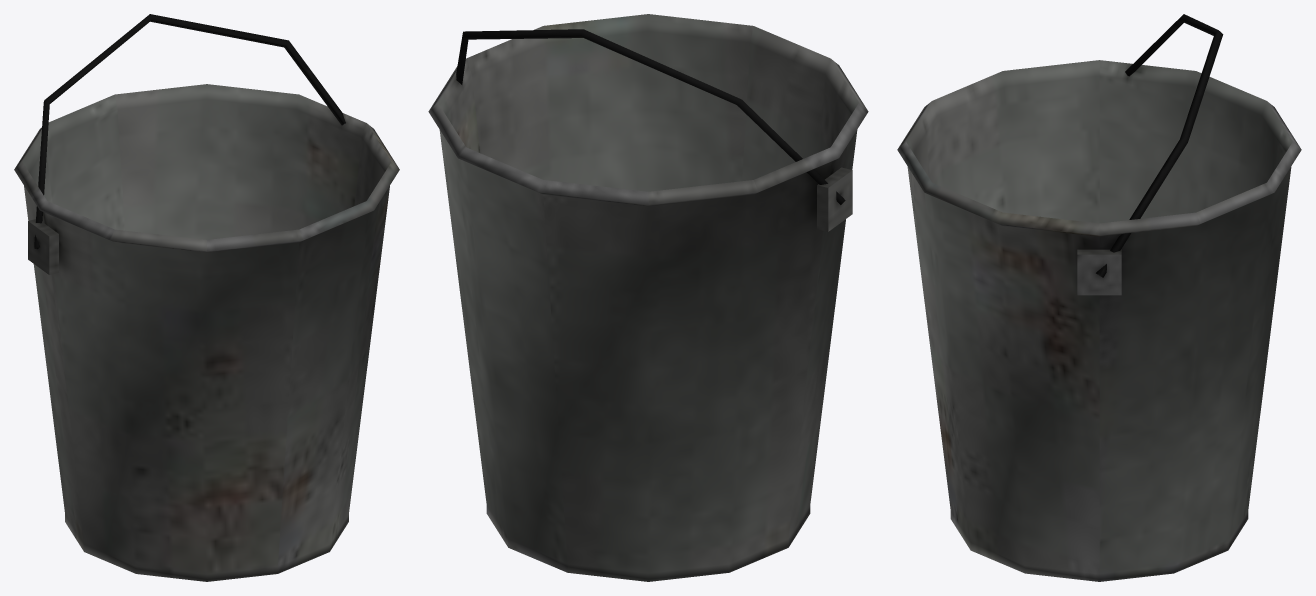
Rendered from bucket_lod1_web.glb.
3 renders of one model, left to right at view 1: azimuth 30°, elevation 25°; view 2: azimuth 150°, elevation 25°; view 3: azimuth 270°, elevation 25°, orthographic. The views are drawn at different scales.
Parts seen in each view (by area): view 1: Bucket_Body; view 2: Bucket_Body; view 3: Bucket_Body.
Boxes of the visible parts, bbox=[...] form: Bucket_Body: bbox=[14, 14, 399, 581]; Bucket_Body: bbox=[428, 14, 868, 581]; Bucket_Body: bbox=[897, 14, 1301, 581].
Bounding box in the file's own units: 0.2814 × 0.3627 × 0.272.
1 material, 1 textured.
